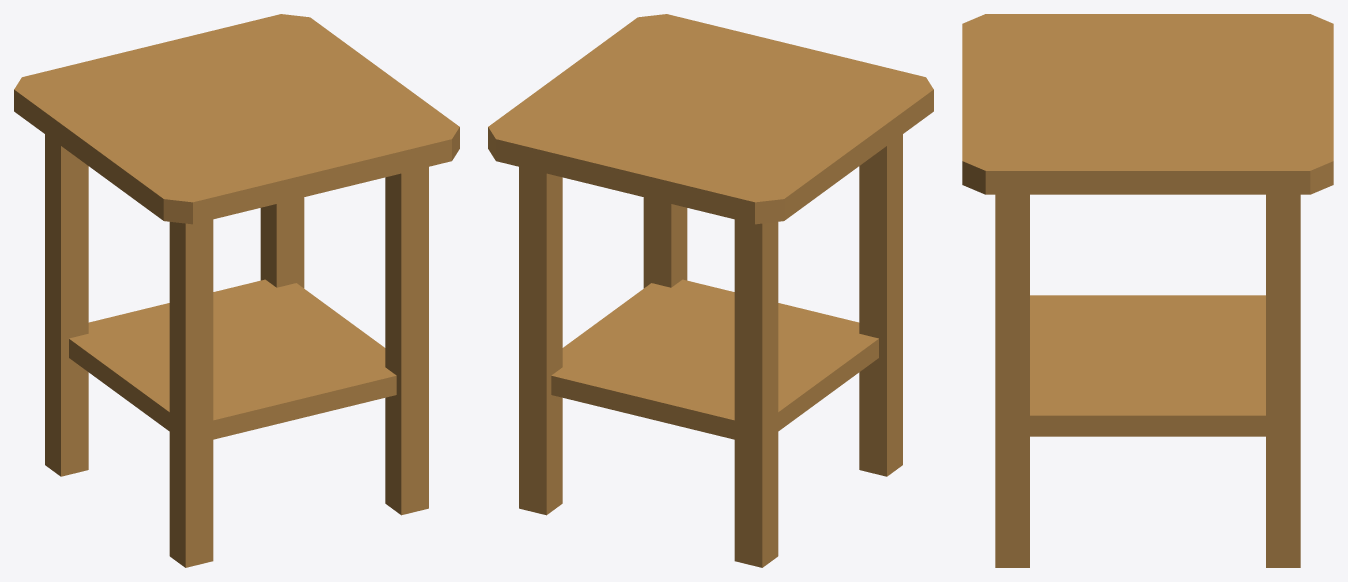
Rendered from SM_LPI_Table_Side_01.fbx.
3 renders of one model, left to right at view 1: azimuth 30°, elevation 25°; view 2: azimuth 150°, elevation 25°; view 3: azimuth 270°, elevation 25°, orthographic. The views are drawn at different scales.
Visible parts, largest first — view 1: SM_LPI_Table_Side_01; view 2: SM_LPI_Table_Side_01; view 3: SM_LPI_Table_Side_01.
Boxes of the visible parts, <box> form: SM_LPI_Table_Side_01: <box>14,14,459,567</box>; SM_LPI_Table_Side_01: <box>488,14,933,567</box>; SM_LPI_Table_Side_01: <box>962,14,1333,567</box>.
Bounding box in the file's own units: 0.45 × 0.55 × 0.45.
